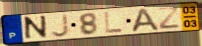8: (78, 12, 99, 36)
A: (129, 7, 162, 34)
J: (50, 13, 71, 38)
L: (103, 11, 124, 35)
N: (24, 14, 49, 42)
Z: (156, 7, 182, 31)
